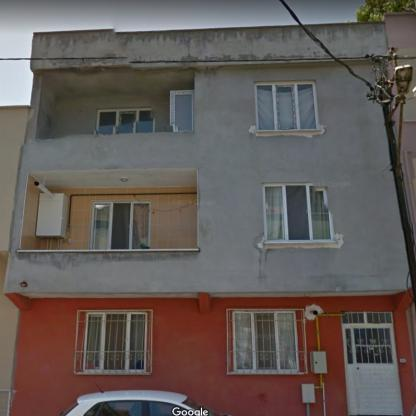door: (342, 312, 403, 414), (171, 92, 193, 131)
window: (263, 183, 334, 242), (233, 311, 298, 371), (84, 313, 145, 372), (255, 81, 317, 130), (90, 201, 150, 249), (96, 108, 152, 134)
